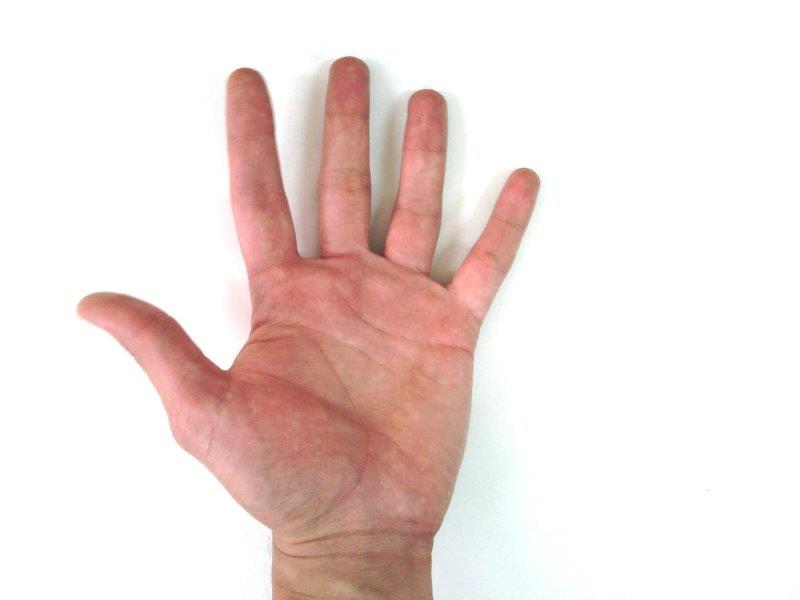hand: (78, 57, 539, 532)
